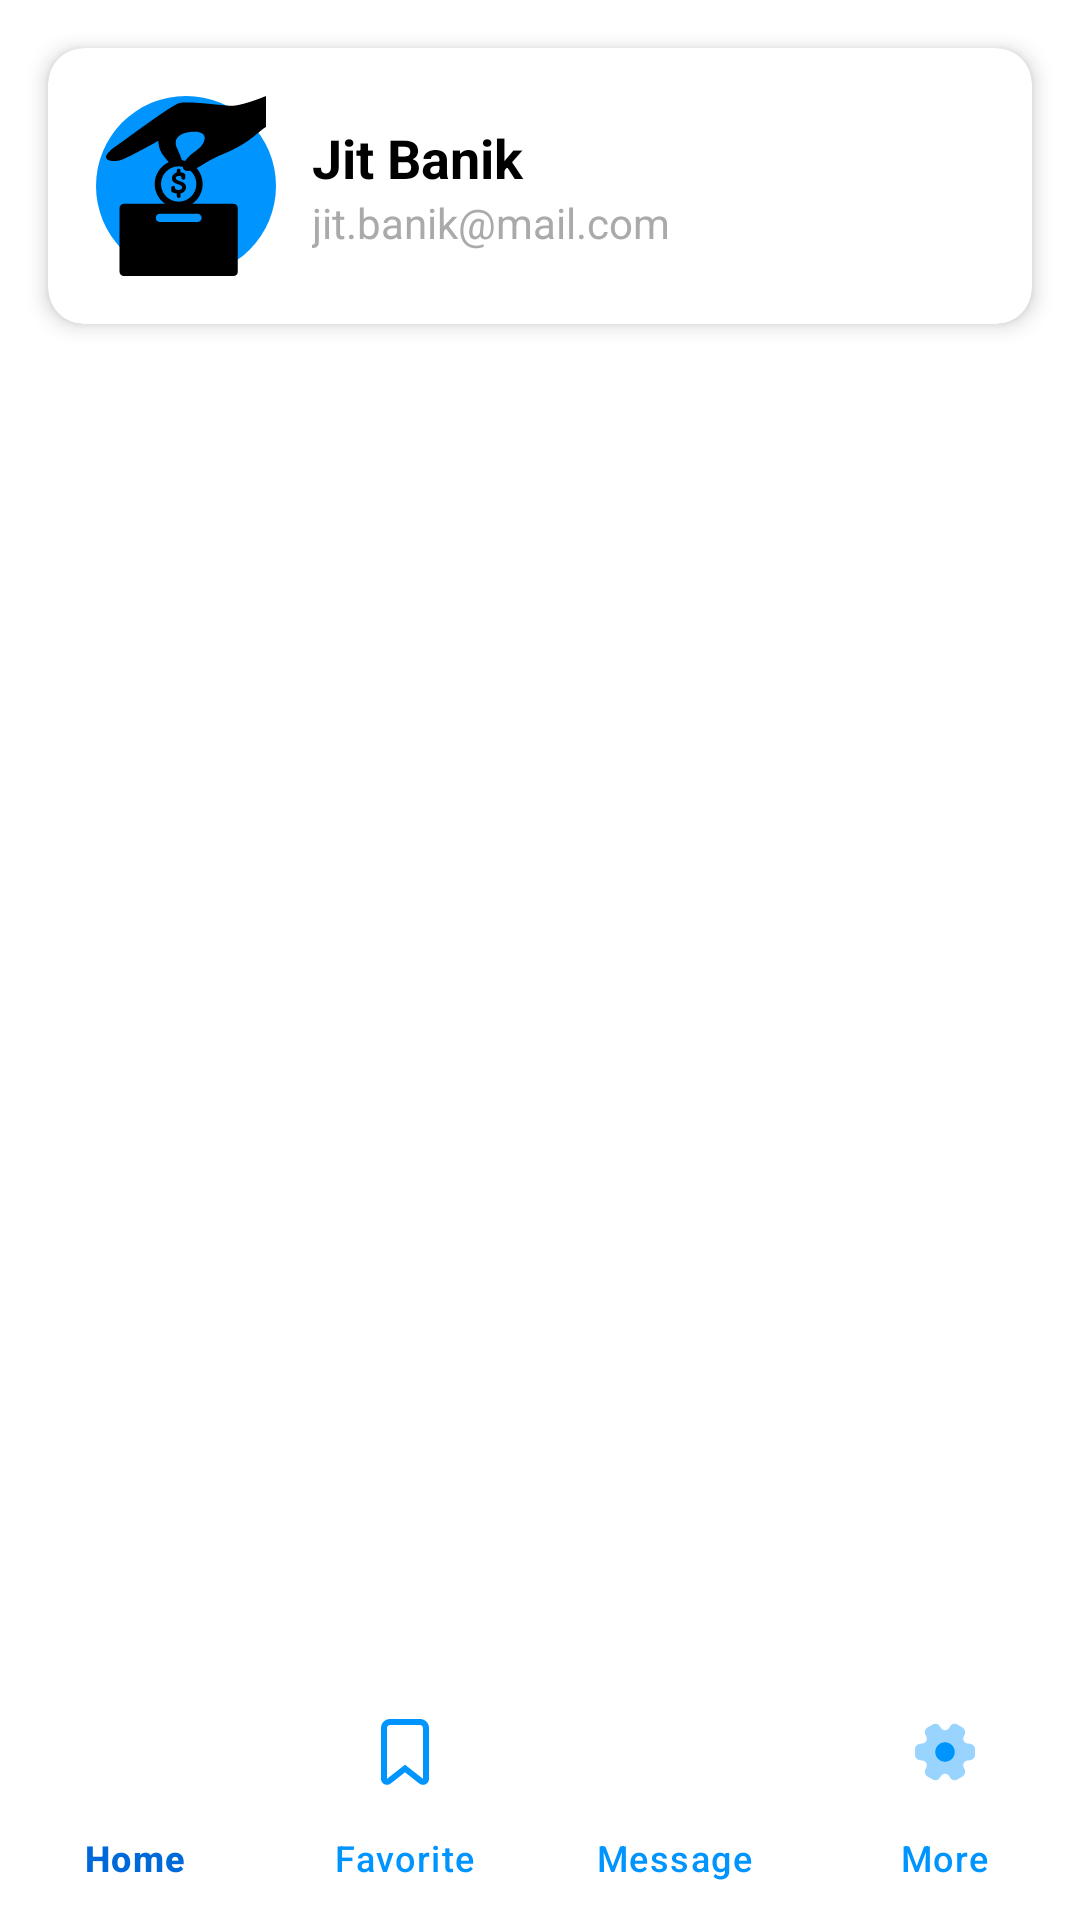

Icons on this 1080×1920 Android screen, each with the point to tap as point (x, y):
sponsor: point (186, 186)
